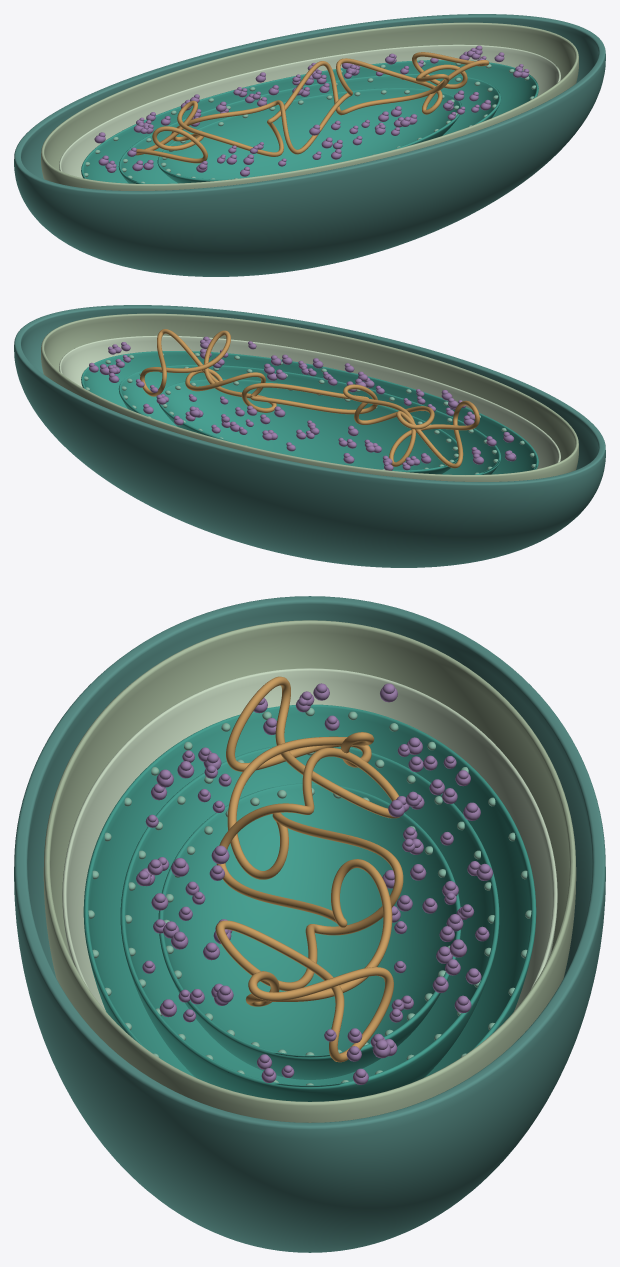
Rendered from cyanobacterium.glb.
3 views of the same model, one above another, from view 1: azimuth 30°, elevation 25°; view 2: azimuth 150°, elevation 25°; view 3: azimuth 270°, elevation 25° (orthographic). The views are drawn at different scales.
Parts seen in each view (by area): view 1: wall, thylakoids, membrane, cytoplasm, nucleoid, ribosomes; view 2: wall, thylakoids, membrane, cytoplasm, nucleoid, ribosomes; view 3: thylakoids, wall, membrane, cytoplasm, nucleoid, ribosomes.
Part boxes in pixels (x1,y1,x2,y2): wall: (14, 14, 605, 276); thylakoids: (81, 60, 538, 183); membrane: (41, 22, 578, 190); cytoplasm: (59, 44, 560, 177); nucleoid: (136, 52, 489, 163); ribosomes: (94, 45, 529, 176); wall: (14, 305, 605, 567); thylakoids: (81, 351, 538, 474); membrane: (41, 313, 578, 481); cytoplasm: (59, 335, 560, 468); nucleoid: (140, 329, 479, 468); ribosomes: (89, 336, 516, 470); thylakoids: (83, 704, 536, 1101); wall: (14, 596, 605, 1252); membrane: (43, 620, 576, 1122); cytoplasm: (62, 668, 557, 1010); nucleoid: (216, 676, 403, 1062); ribosomes: (136, 683, 493, 1084).
Size of the model in its own units: 7.21 by 2.04 by 3.39.
